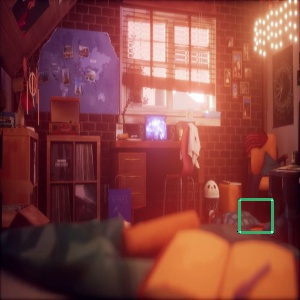square: (236, 195, 278, 237)
